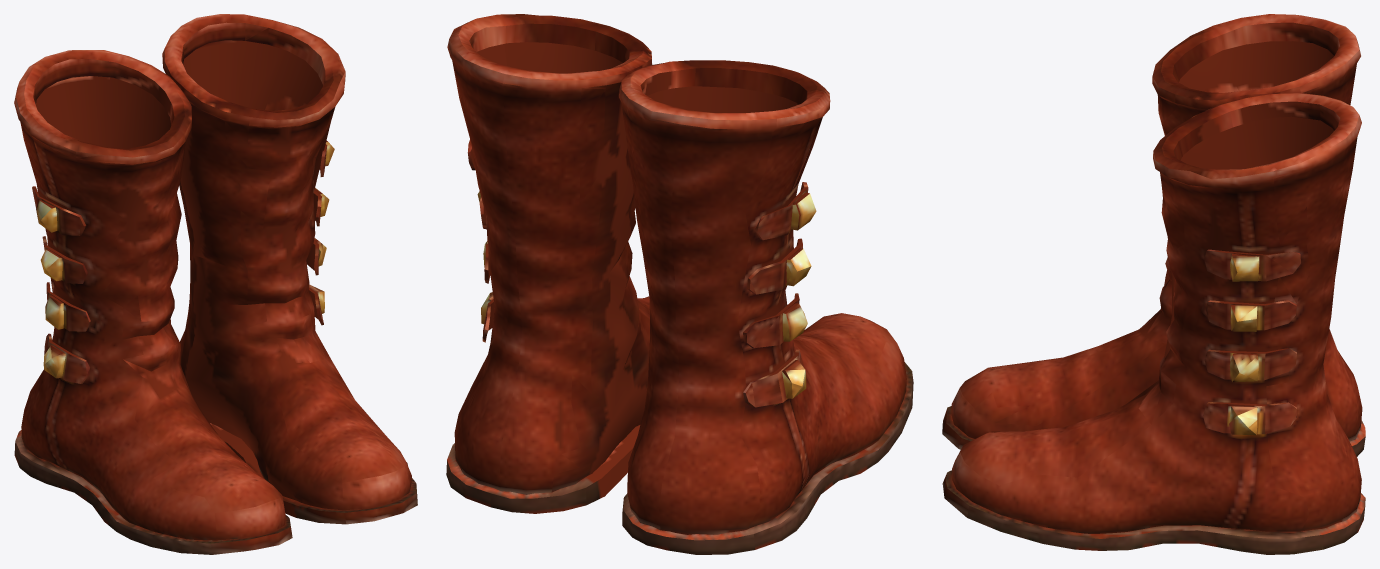
File: item_mm9_10205.glb
The picture shows the model from 3 angles, left to right: view 1: azimuth 30°, elevation 25°; view 2: azimuth 150°, elevation 25°; view 3: azimuth 270°, elevation 25°; orthographic projection. The views are drawn at different scales.
Parts seen in each view (by area): view 1: d10205; view 2: d10205; view 3: d10205.
Boxes of the visible parts, x1=… form: d10205: x1=14, y1=14, x2=417, y2=554; d10205: x1=446, y1=14, x2=913, y2=554; d10205: x1=942, y1=14, x2=1365, y2=554.
Size of the model in its own units: 0.8535 by 1 by 0.9586.
Materials: 1 (1 with a texture image).
